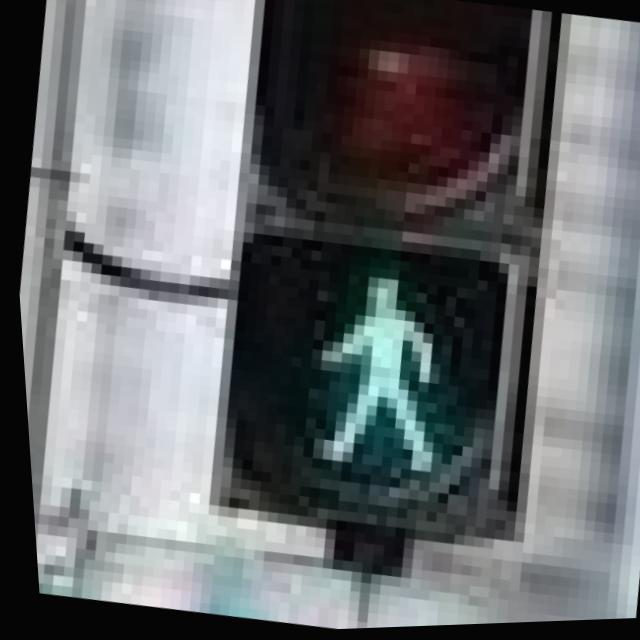green_light: (224, 230, 488, 504)
